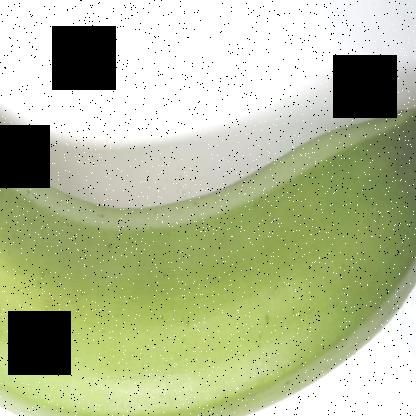freshunripe: (0, 67, 416, 415)
